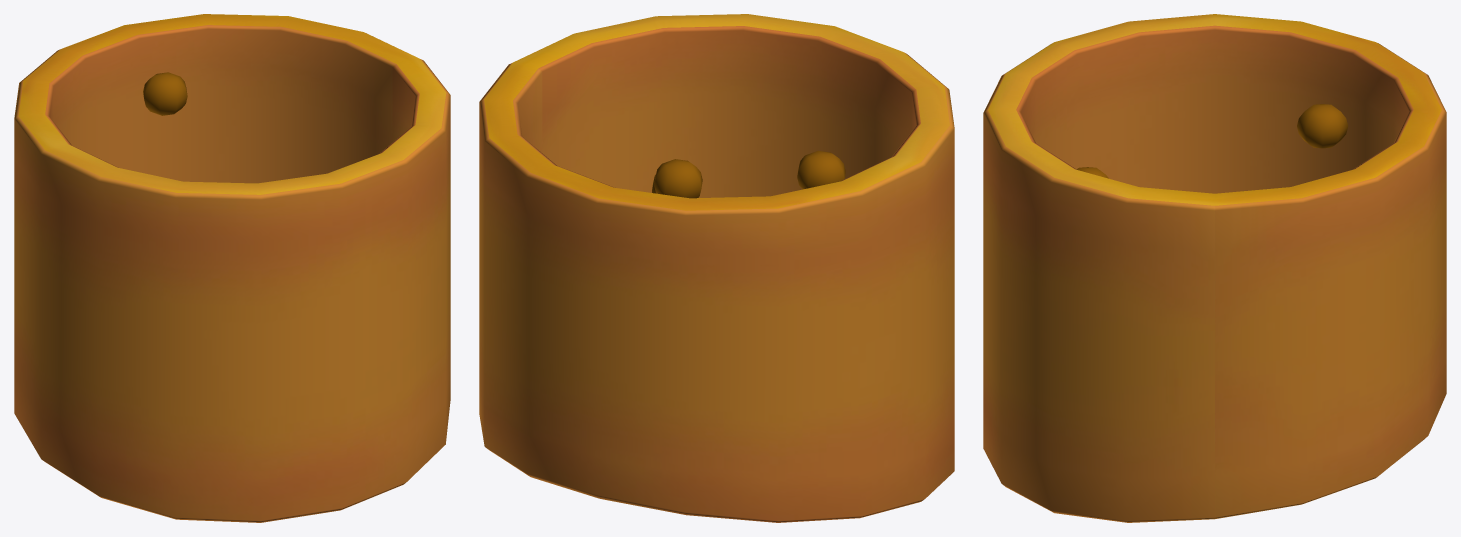
File: VesiculaEncapsulada.fbx
The picture shows the model from 3 angles, left to right: view 1: azimuth 30°, elevation 25°; view 2: azimuth 150°, elevation 25°; view 3: azimuth 270°, elevation 25°; orthographic projection. The views are drawn at different scales.
Visible parts, largest first — view 1: pCylinder15; view 2: pCylinder15; view 3: pCylinder15.
Part boxes in pixels (bbox=[...]): pCylinder15: bbox=[14, 14, 450, 522]; pCylinder15: bbox=[479, 14, 954, 522]; pCylinder15: bbox=[983, 14, 1446, 522].
Size of the model in its own units: 1.85 by 1.53 by 1.85.
1 material, 1 textured.
